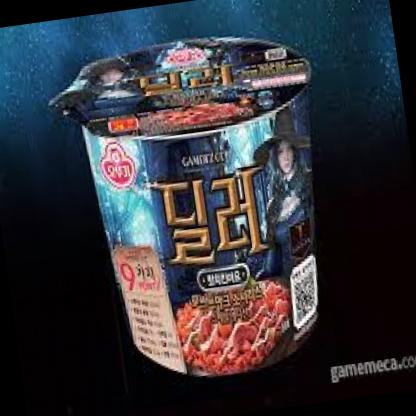Ramen: (59, 21, 355, 396)
